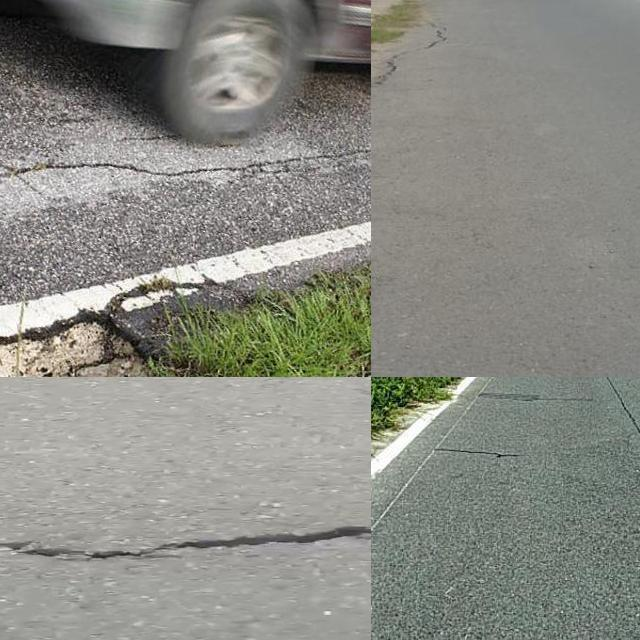Melintang: (0, 512, 371, 572)
Pinggir: (0, 301, 253, 377)
